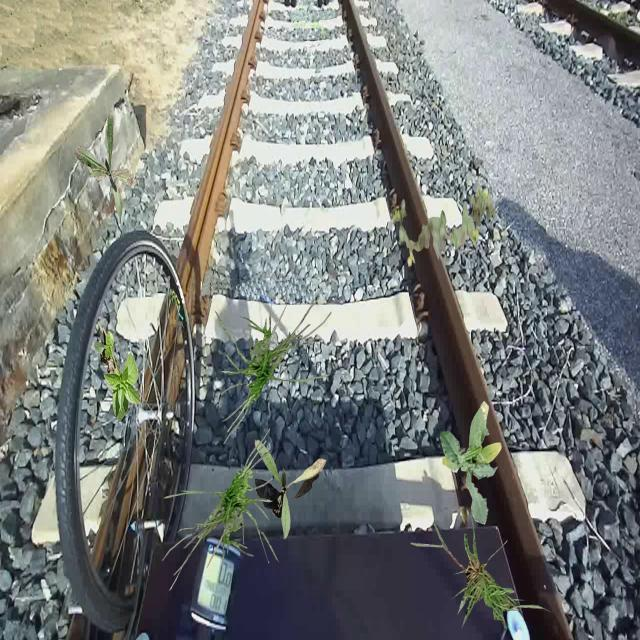Plant: (213, 281, 332, 444), (162, 428, 280, 592), (410, 512, 554, 632), (440, 401, 502, 526), (75, 113, 139, 225), (255, 440, 326, 540), (393, 199, 480, 268), (94, 328, 142, 423), (470, 184, 496, 226), (234, 469, 254, 502)
